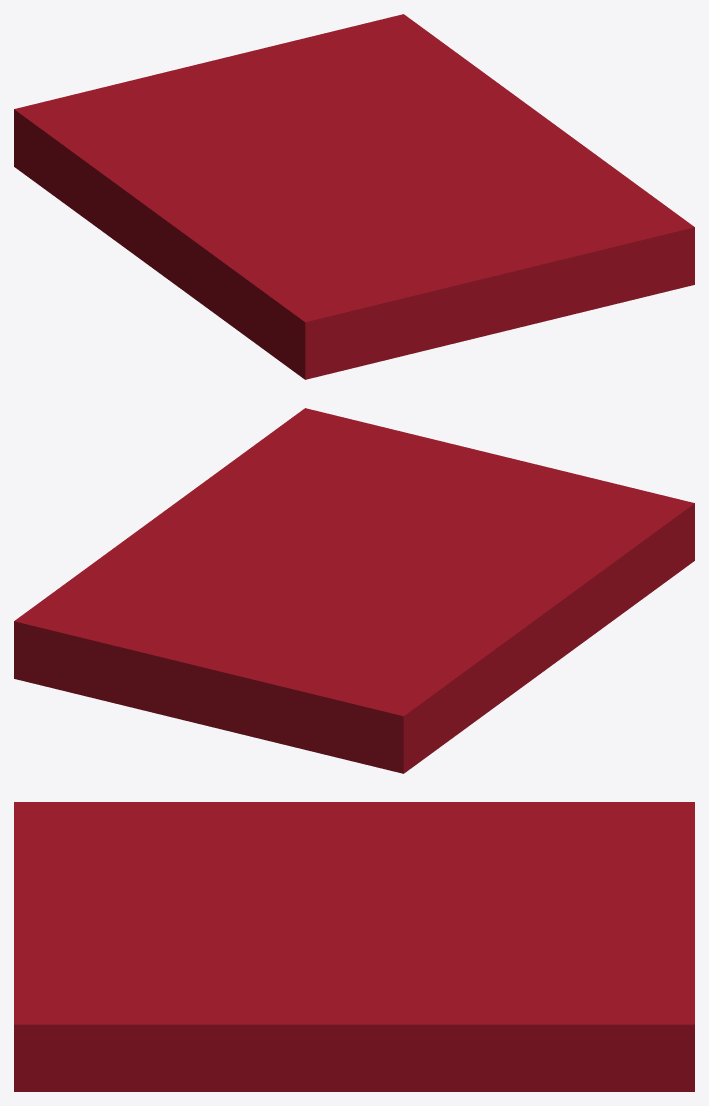
The model's file is crimson_shield.glb.
3 renders of one model, top to bottom at view 1: azimuth 30°, elevation 25°; view 2: azimuth 150°, elevation 25°; view 3: azimuth 270°, elevation 25°, orthographic. The views are drawn at different scales.
Visible parts, largest first — view 1: part_0; view 2: part_0; view 3: part_0.
Part boxes in pixels (x1,y1,x2,y2): part_0: [14, 14, 694, 379]; part_0: [14, 408, 694, 773]; part_0: [14, 802, 694, 1091].
Bounding box in the file's own units: 0.85 × 0.135 × 1.1.
